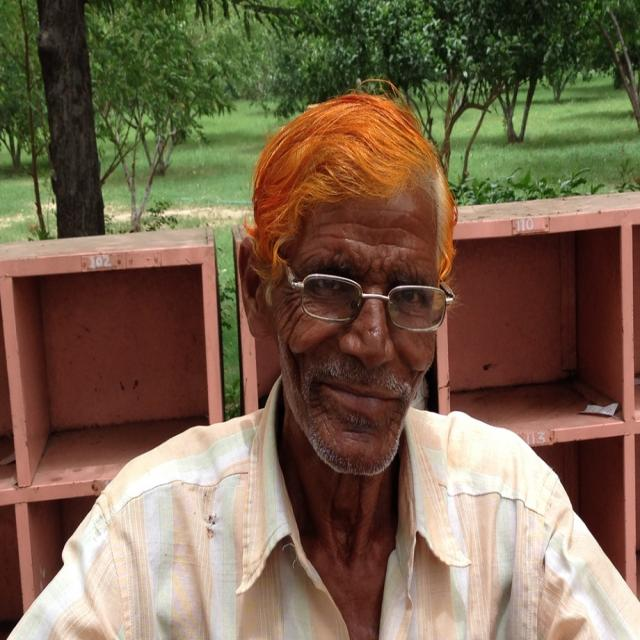Glasses: (268, 246, 442, 334)
